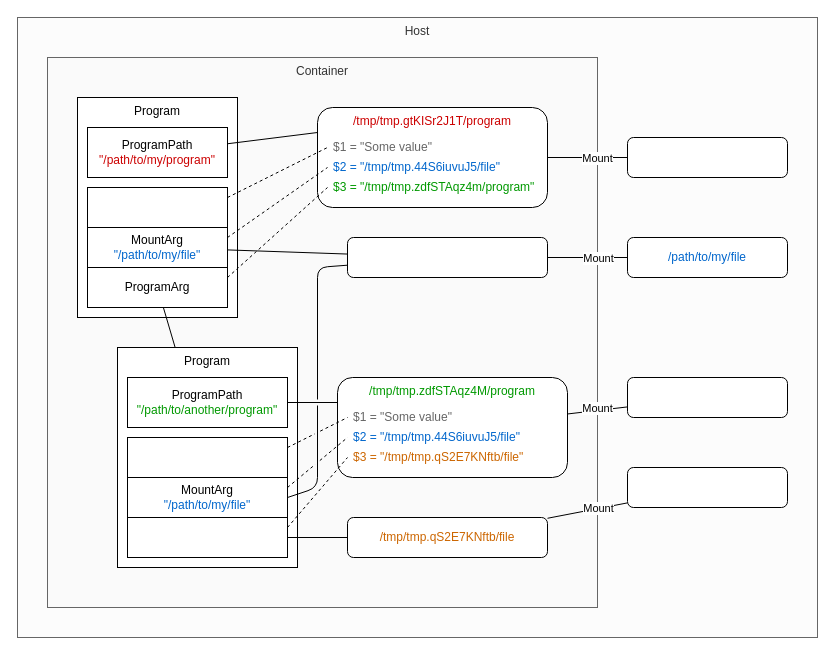
Some shapes in this 835 by 655 pixel diagram are drawn without their labels. The shapes that lost their labels are listed below. From the top down, each one's centre as x and y in pixels, then its label:
point (707, 157): /path/to/my/program
point (157, 207): StringArg "Some value"
point (447, 257): /tmp/tmp.44S6iuvuJ5/file
point (707, 397): /path/to/another/program
point (207, 457): StringArg "Another value"
point (707, 487): /path/to/another/file
point (207, 537): MountArg "/path/to/another/file"
